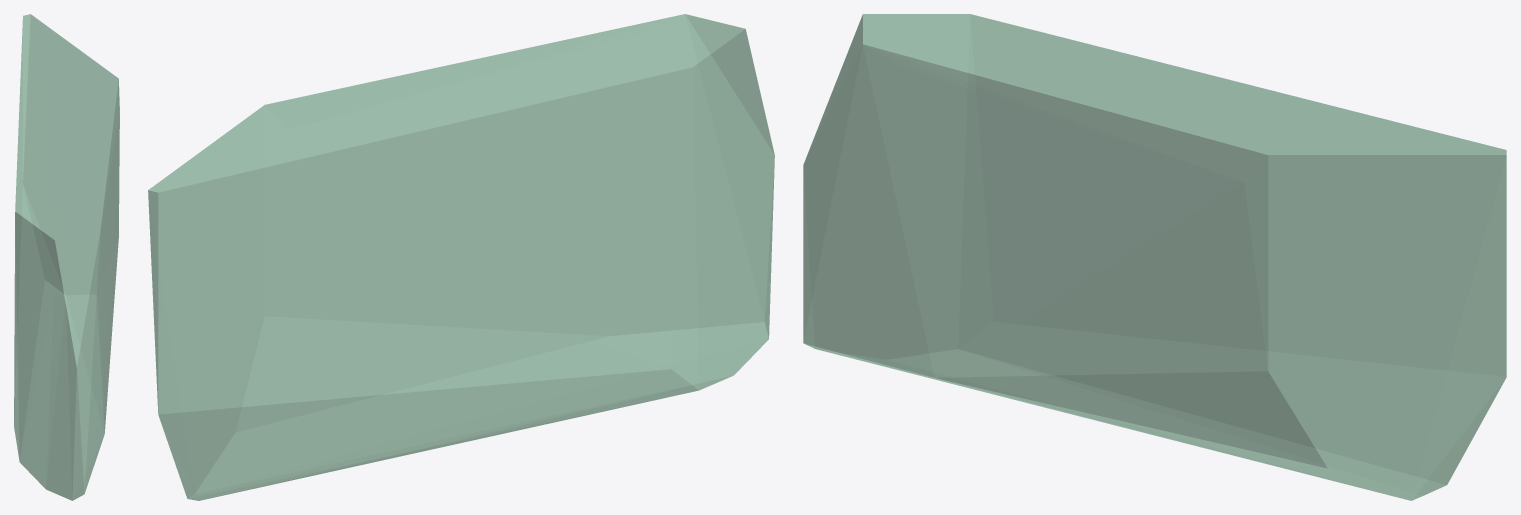
3 views of the same model, side by side, from view 1: azimuth 30°, elevation 25°; view 2: azimuth 150°, elevation 25°; view 3: azimuth 270°, elevation 25° (orthographic). The views are drawn at different scales.
Parts seen in each view (by area): view 1: Shape_IndexedFaceSet.018_Shape_IndexedFaceSet.16420; view 2: Shape_IndexedFaceSet.018_Shape_IndexedFaceSet.16420; view 3: Shape_IndexedFaceSet.018_Shape_IndexedFaceSet.16420.
Part boxes in pixels (x1=…): Shape_IndexedFaceSet.018_Shape_IndexedFaceSet.16420: x1=14, y1=14, x2=119, y2=500; Shape_IndexedFaceSet.018_Shape_IndexedFaceSet.16420: x1=148, y1=14, x2=774, y2=500; Shape_IndexedFaceSet.018_Shape_IndexedFaceSet.16420: x1=803, y1=14, x2=1506, y2=500.
Size of the model in its own units: 0.00643 by 0.00735 by 0.0136.
